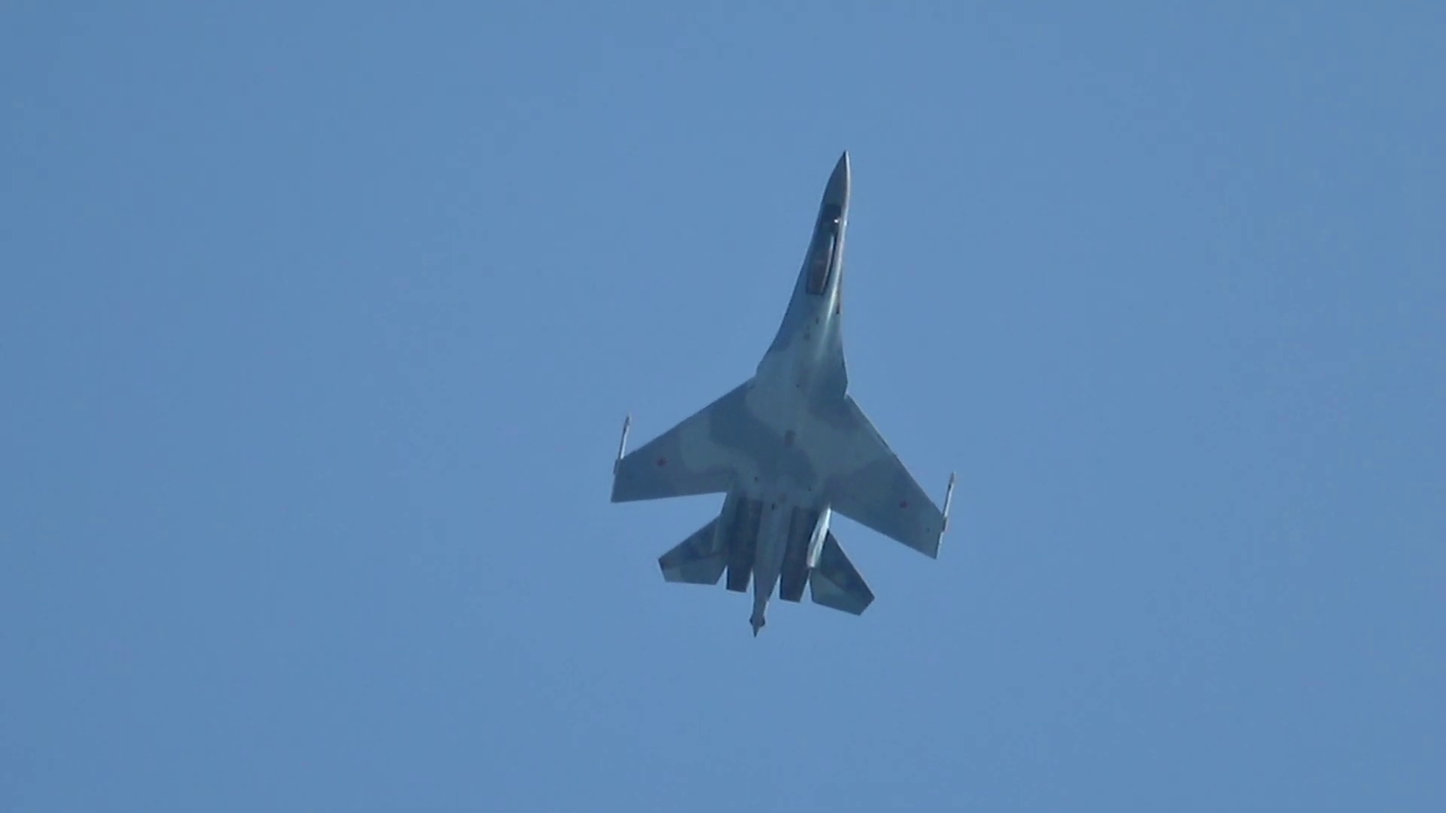Su35: (610, 149, 956, 638)
